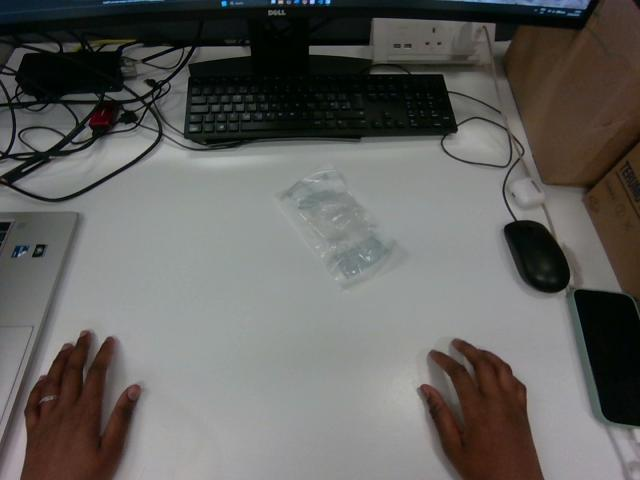gallipot: (278, 167, 394, 286)
